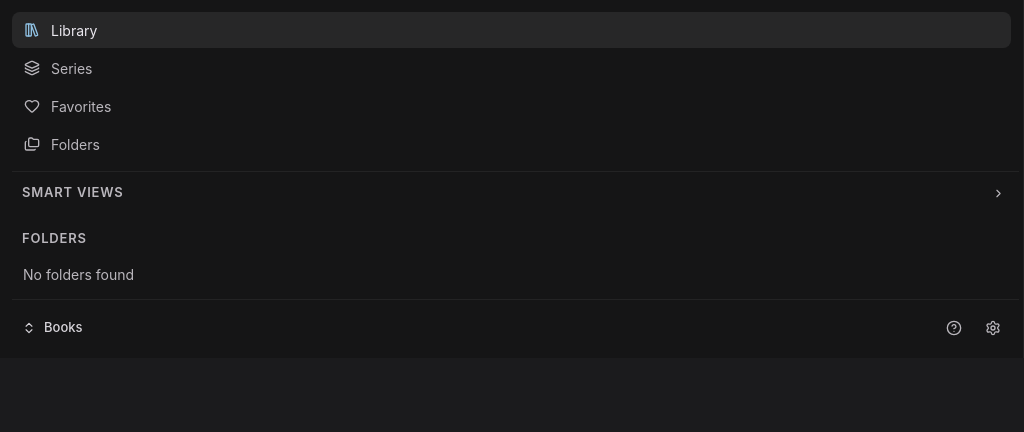
LibrarySidebar › renders only selected Smart Views in canonical order
Step 1. Click the button "Smart views" → [73, 192], box top-left (12, 177), bottom-right (1015, 209)
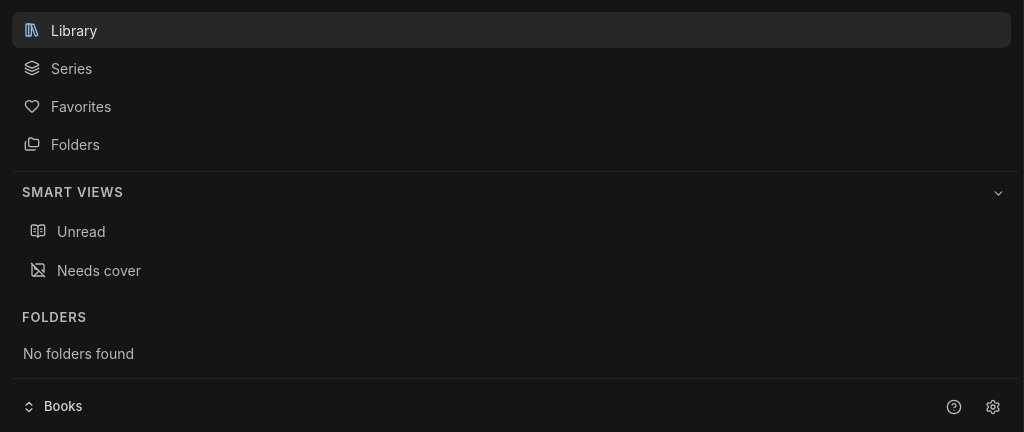
Expected: the text "Unread Needs cover" is shown, top-left (12, 213), bottom-right (1015, 288)
